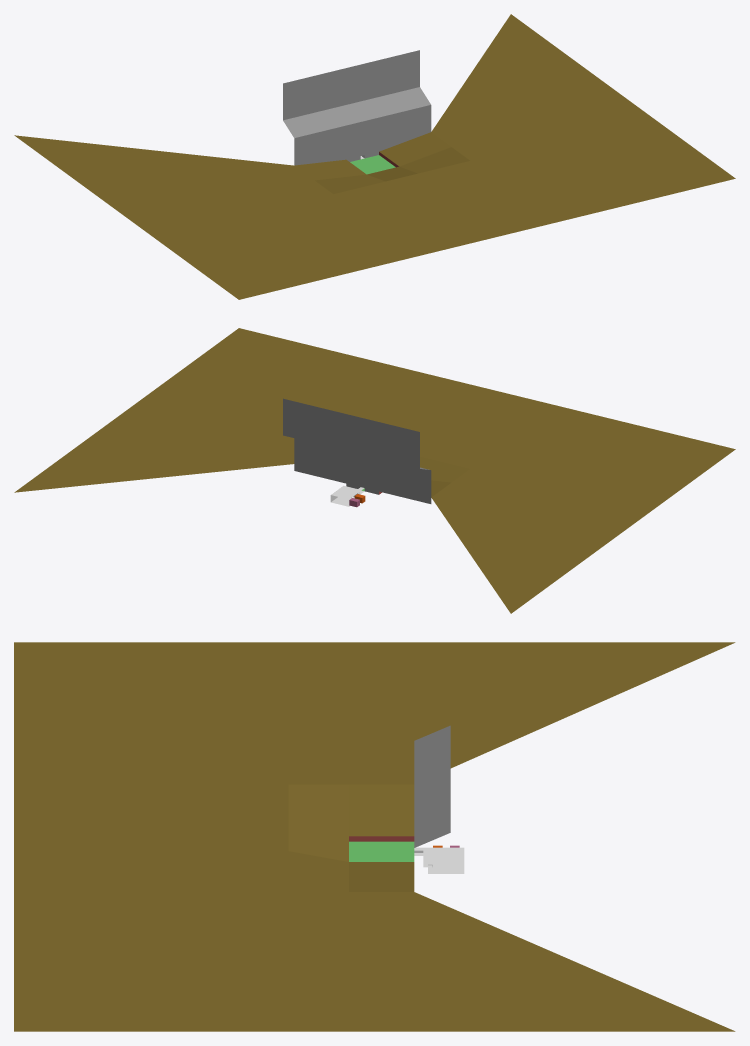
Rendered from map.glb.
3 renders of one model, top to bottom at view 1: azimuth 30°, elevation 25°; view 2: azimuth 150°, elevation 25°; view 3: azimuth 270°, elevation 25°, orthographic. The views are drawn at different scales.
Visible parts, largest first — view 1: Plane.006; view 2: Plane.006; view 3: Plane.006, Plane.003.
Boxes of the visible parts, x1,y1,x2,y2 form: Plane.006: (14, 14, 735, 299); Plane.006: (14, 328, 735, 613); Plane.006: (14, 642, 735, 1031); Plane.003: (414, 847, 464, 861).
Bounding box in the file's own units: 381 × 64.41 × 299.
